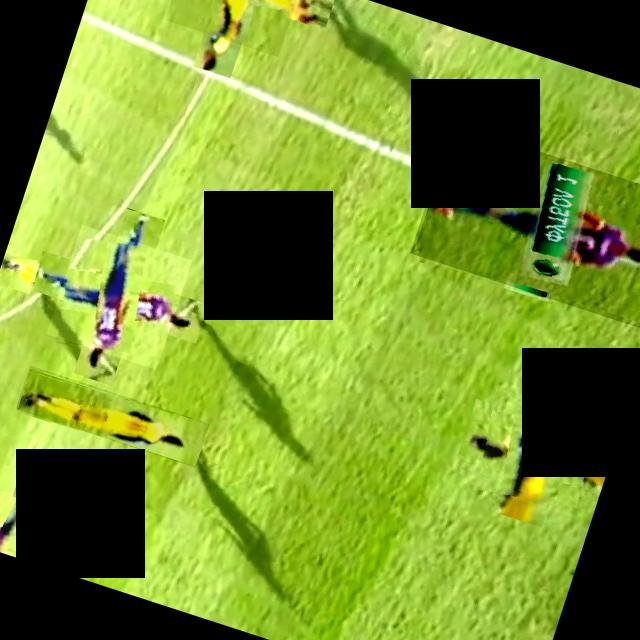soccer-player: (410, 122, 640, 331), (46, 224, 192, 369), (16, 365, 210, 467), (469, 381, 606, 516), (165, 0, 304, 56), (0, 483, 67, 568), (0, 250, 40, 294)
